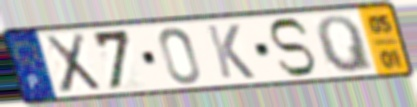0: (157, 25, 203, 87)
7: (92, 28, 134, 92)
K: (203, 22, 258, 81)
Q: (314, 13, 377, 75)
S: (266, 16, 319, 79)
X: (40, 30, 104, 96)
